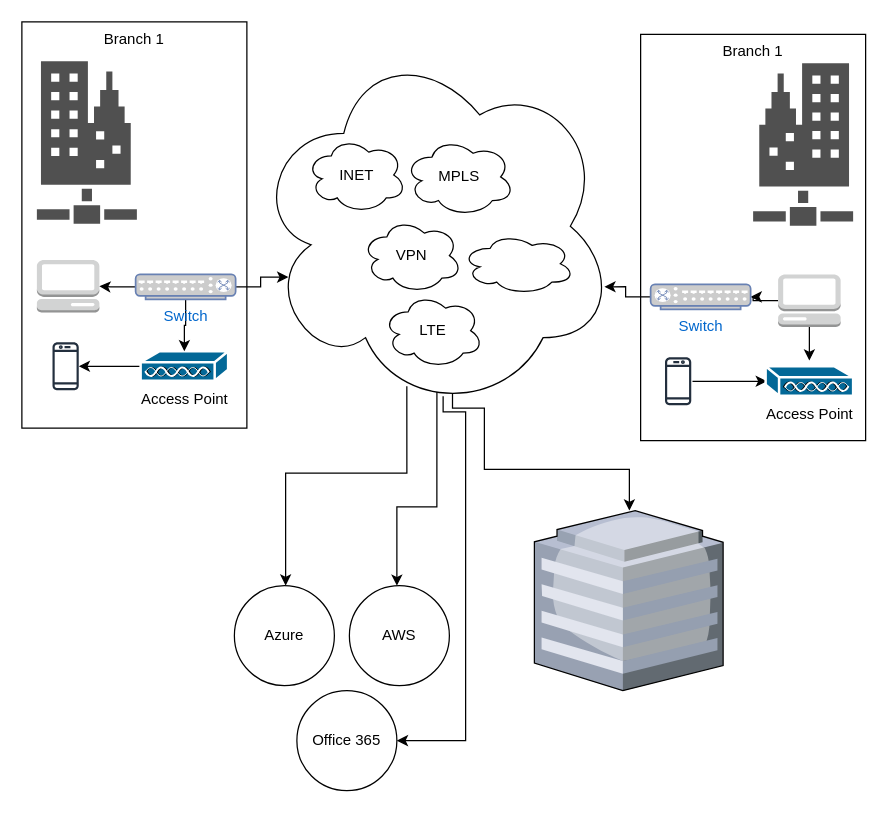
Some shapes in this 888 by 813 pixel diagram are drawn without their labels. The box of each missing label's shape, as (x1, y1, x2, y2) in pixels:
3G: (461, 232, 574, 294)
Headquarter: (534, 510, 722, 690)
